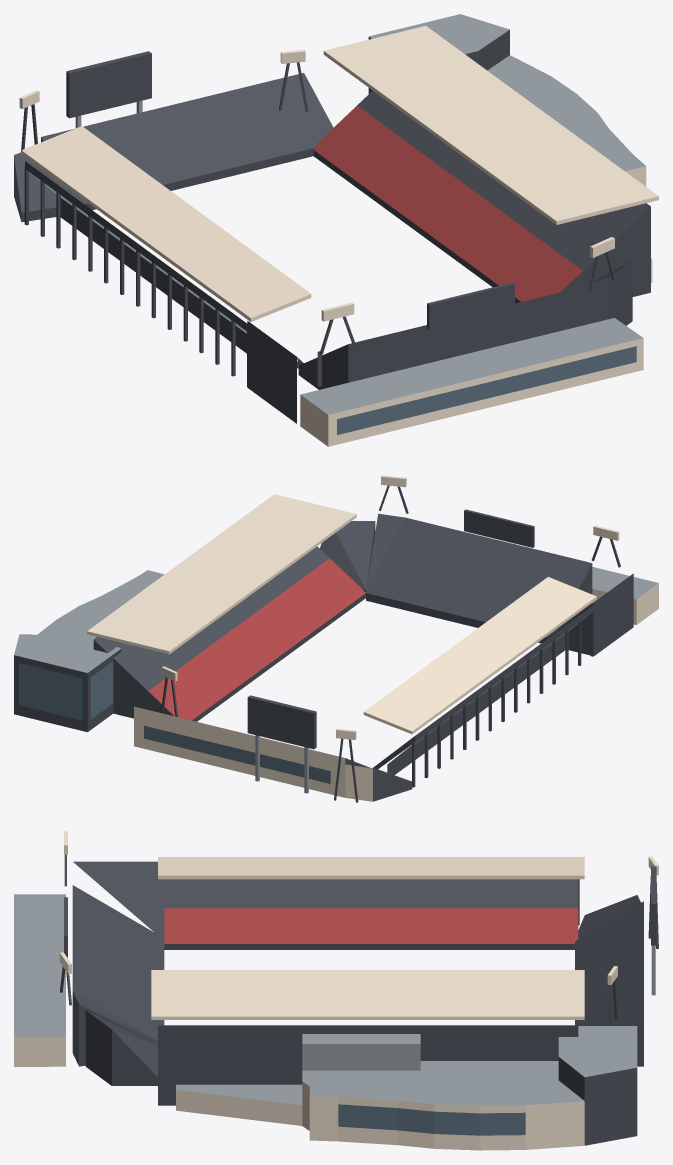
3 renders of one model, top to bottom at view 1: azimuth 30°, elevation 25°; view 2: azimuth 150°, elevation 25°; view 3: azimuth 270°, elevation 25°, orthographic. The views are drawn at different scales.
Parts seen in each view (by area): view 1: audi-field; view 2: audi-field; view 3: audi-field.
Boxes of the visible parts, x1,y1,x2,y2 form: audi-field: (14,14,658,446); audi-field: (14,475,658,802); audi-field: (14,831,658,1150).
Size of the model in its own units: 163 by 34.5 by 196.
